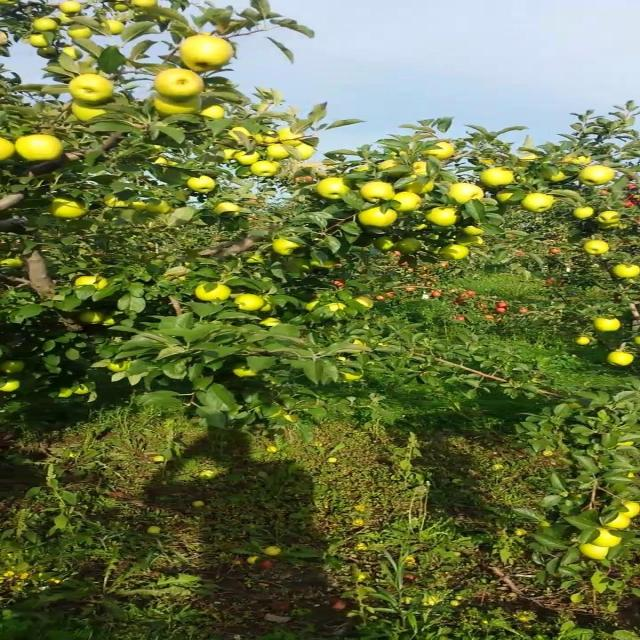apple: (184, 36, 236, 73), (156, 68, 206, 98), (148, 92, 204, 117), (13, 136, 64, 163), (70, 76, 116, 103), (70, 100, 114, 123), (49, 196, 91, 220), (362, 180, 396, 204), (447, 184, 485, 205), (269, 236, 308, 256), (483, 168, 519, 189), (319, 180, 354, 201), (426, 208, 462, 228), (362, 208, 398, 228), (198, 284, 235, 303), (589, 528, 624, 548), (390, 192, 423, 213), (582, 168, 617, 187), (248, 160, 283, 178), (227, 128, 260, 147), (276, 128, 308, 147), (419, 144, 455, 160), (404, 176, 436, 194), (191, 176, 219, 196), (525, 196, 555, 214), (198, 104, 228, 121), (582, 240, 612, 256), (582, 544, 612, 560), (148, 8, 178, 24), (77, 276, 108, 291), (284, 260, 315, 275), (440, 244, 469, 260), (234, 296, 263, 312), (376, 160, 405, 176), (611, 264, 639, 280), (397, 240, 425, 255), (148, 200, 174, 216), (291, 144, 315, 161), (234, 152, 263, 166), (212, 204, 242, 217), (604, 516, 633, 529), (269, 144, 292, 160), (77, 312, 105, 325), (234, 364, 260, 378), (611, 352, 633, 368), (547, 168, 569, 184), (106, 192, 128, 208), (376, 236, 398, 252), (596, 320, 624, 332), (596, 212, 624, 224), (6, 360, 28, 375), (454, 236, 484, 247), (348, 340, 373, 353), (106, 20, 126, 36), (255, 132, 277, 146), (412, 160, 430, 177), (35, 20, 59, 32), (127, 200, 151, 212), (497, 192, 519, 205), (355, 296, 377, 309), (575, 208, 597, 220), (70, 28, 92, 40), (262, 316, 283, 328), (63, 4, 85, 15), (113, 360, 132, 372), (63, 48, 82, 60), (220, 148, 235, 163), (35, 36, 53, 48), (340, 372, 364, 381), (568, 156, 592, 165), (6, 138, 16, 159), (625, 504, 639, 518), (262, 300, 277, 313), (6, 260, 27, 269), (42, 48, 59, 59), (461, 228, 484, 236), (6, 380, 21, 392), (77, 384, 92, 396), (305, 300, 320, 312), (326, 304, 348, 312), (284, 412, 299, 423), (618, 440, 638, 448), (113, 4, 132, 12), (106, 316, 119, 327), (156, 160, 176, 167), (248, 256, 265, 264), (577, 336, 592, 345), (262, 304, 277, 313), (476, 160, 498, 166), (269, 548, 284, 556), (134, 4, 155, 8), (63, 388, 71, 398), (632, 336, 639, 344)
